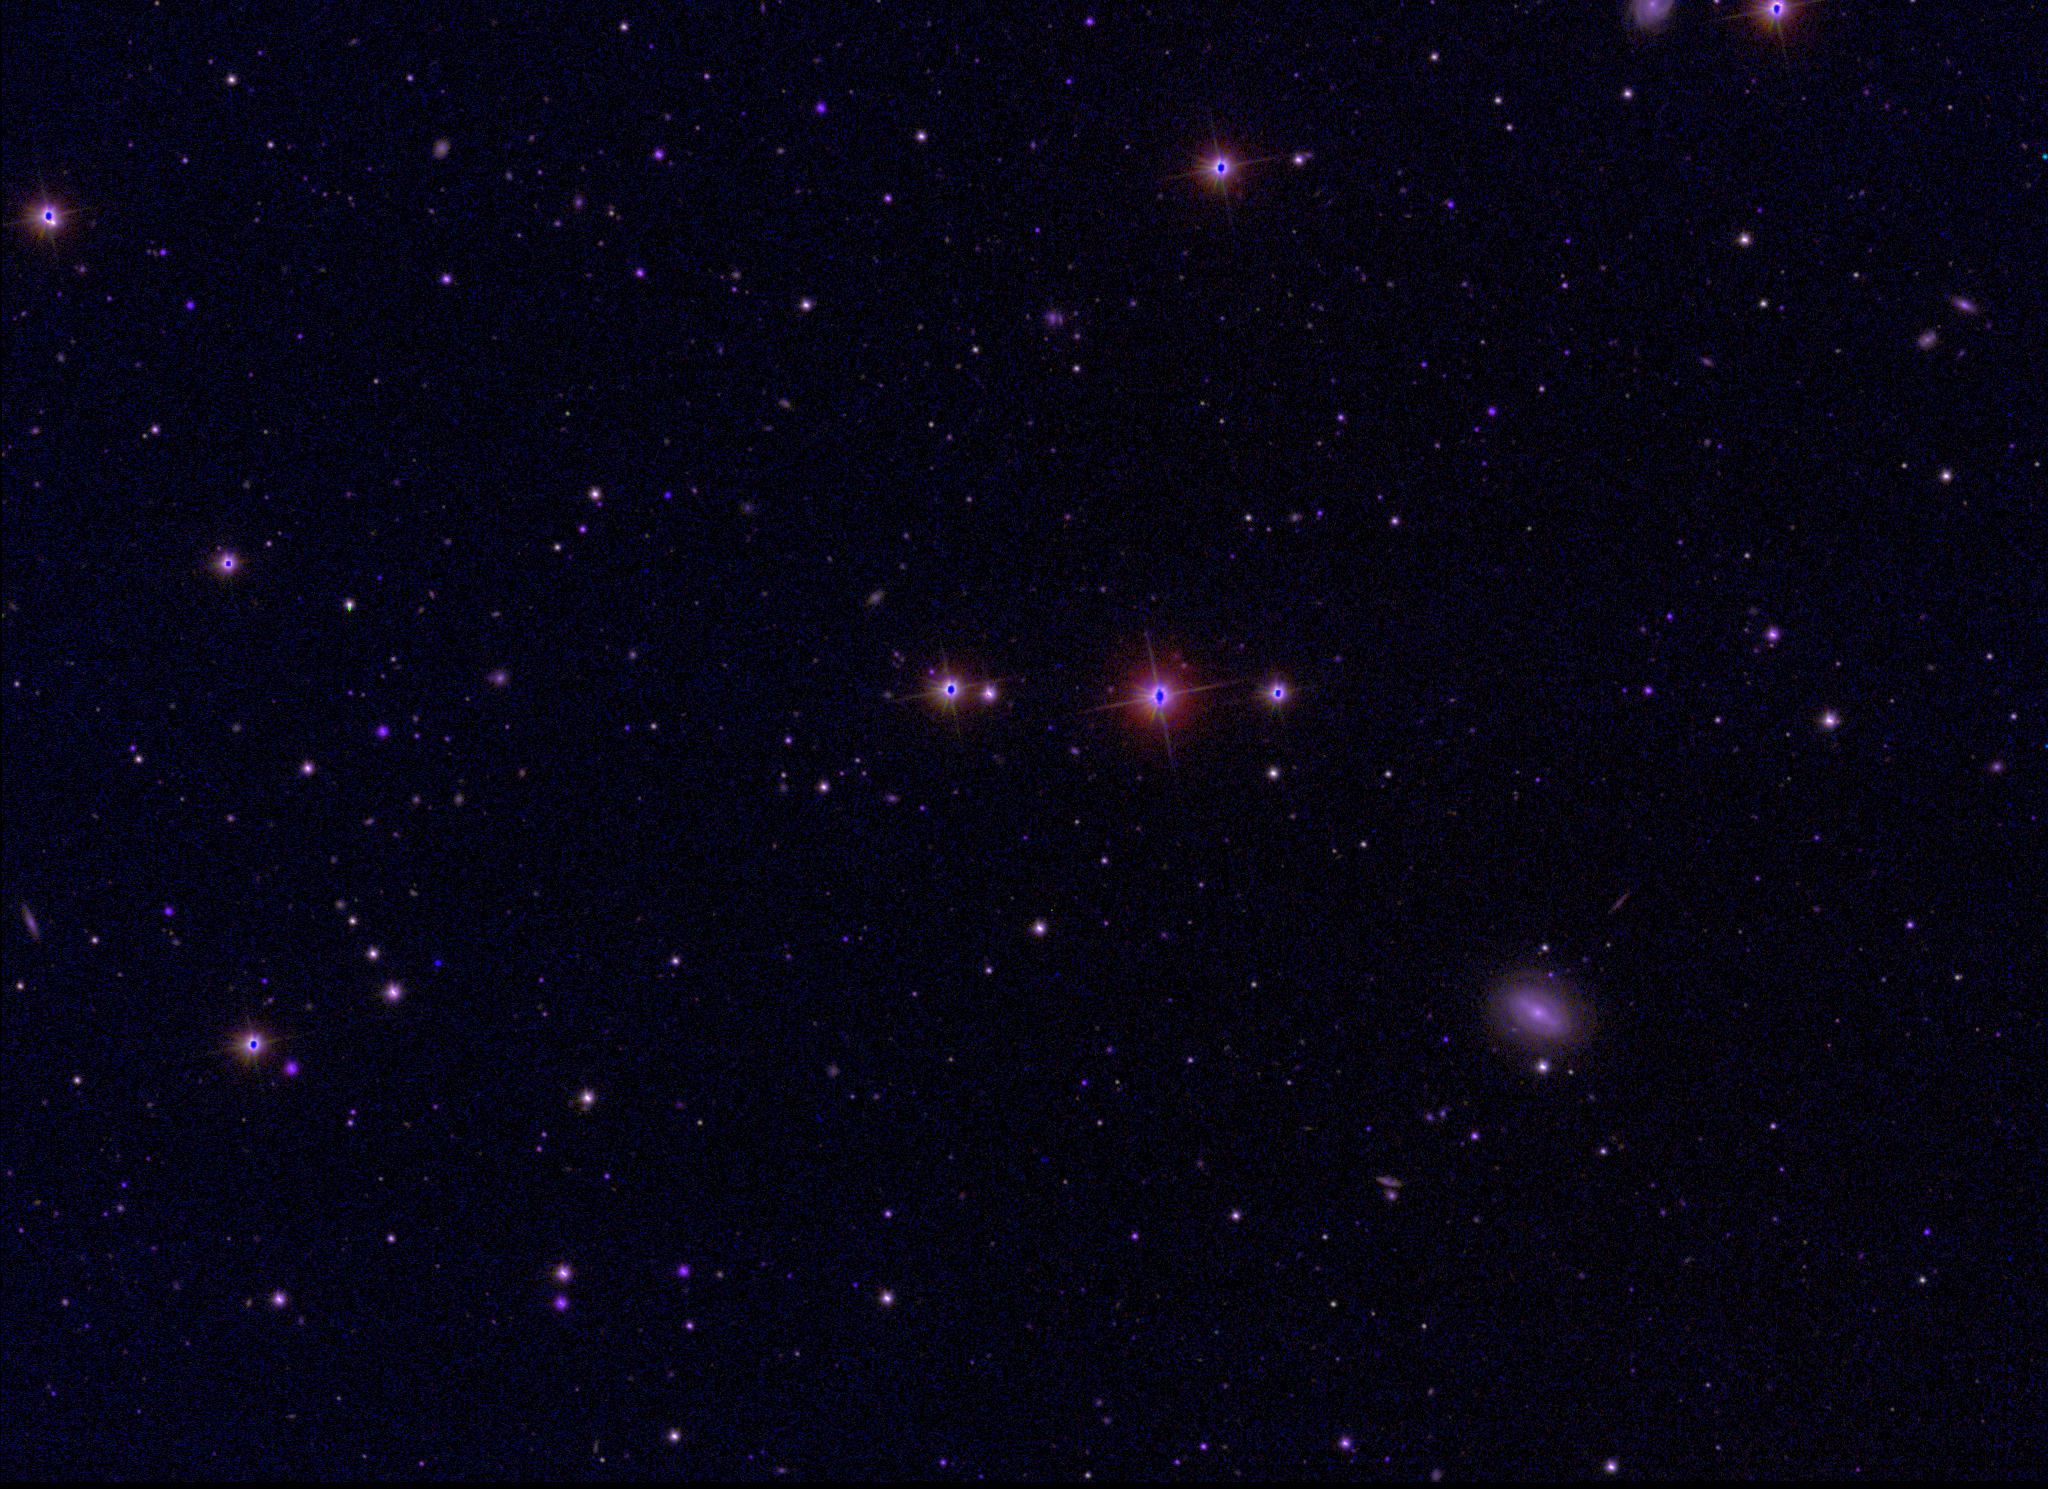L: (431, 956, 445, 970)
